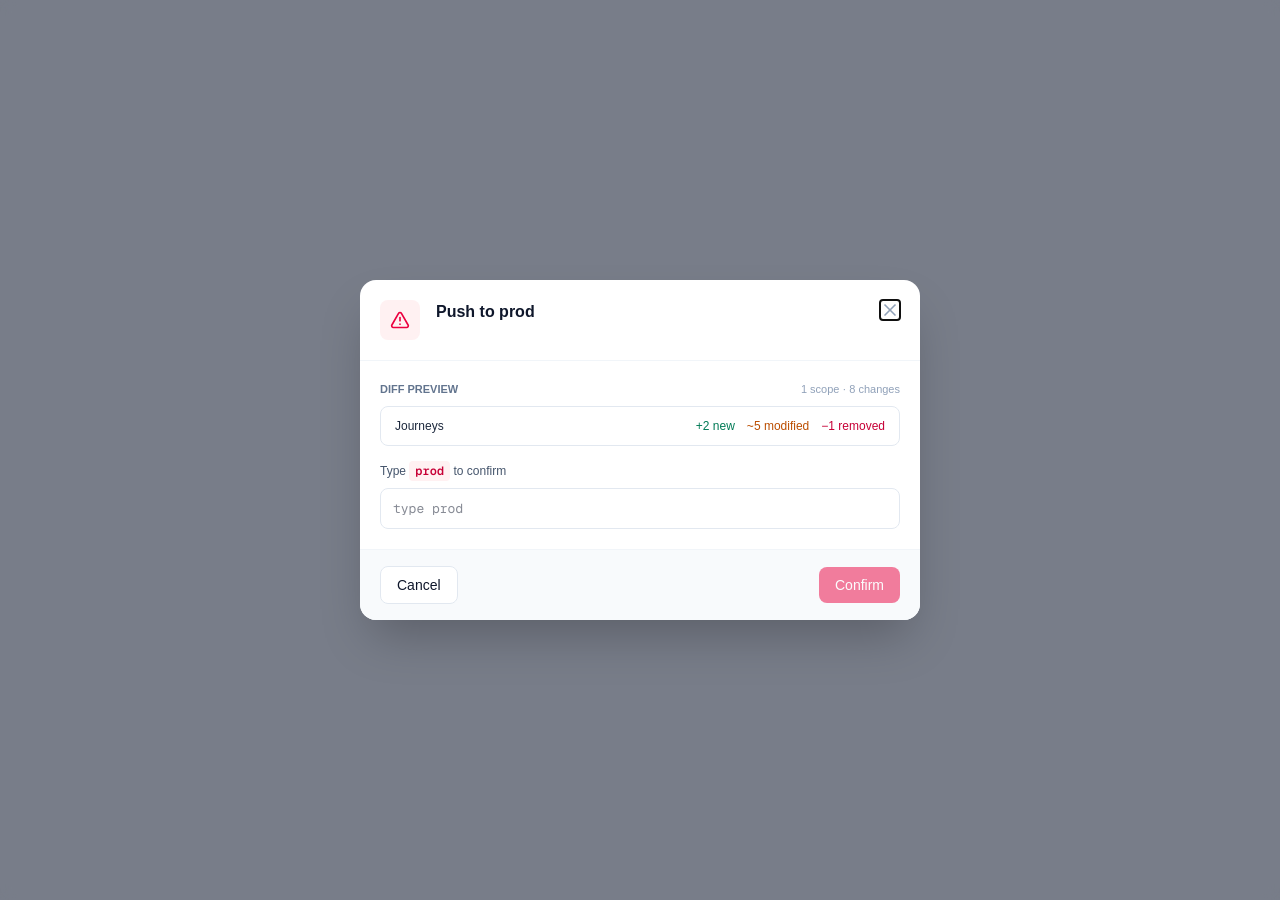
Test: DangerousConfirmDialog › blocks Confirm while diff is null when blockUntilDiffLoaded is true
Expected: the text "Journeys" is shown, [395, 418, 444, 432]
Expected: the button "Confirm" is disabled, [819, 567, 900, 603]
Type "prod" into the field with placeholder "type prod". click: (640, 508)
box: [380, 488, 900, 529]
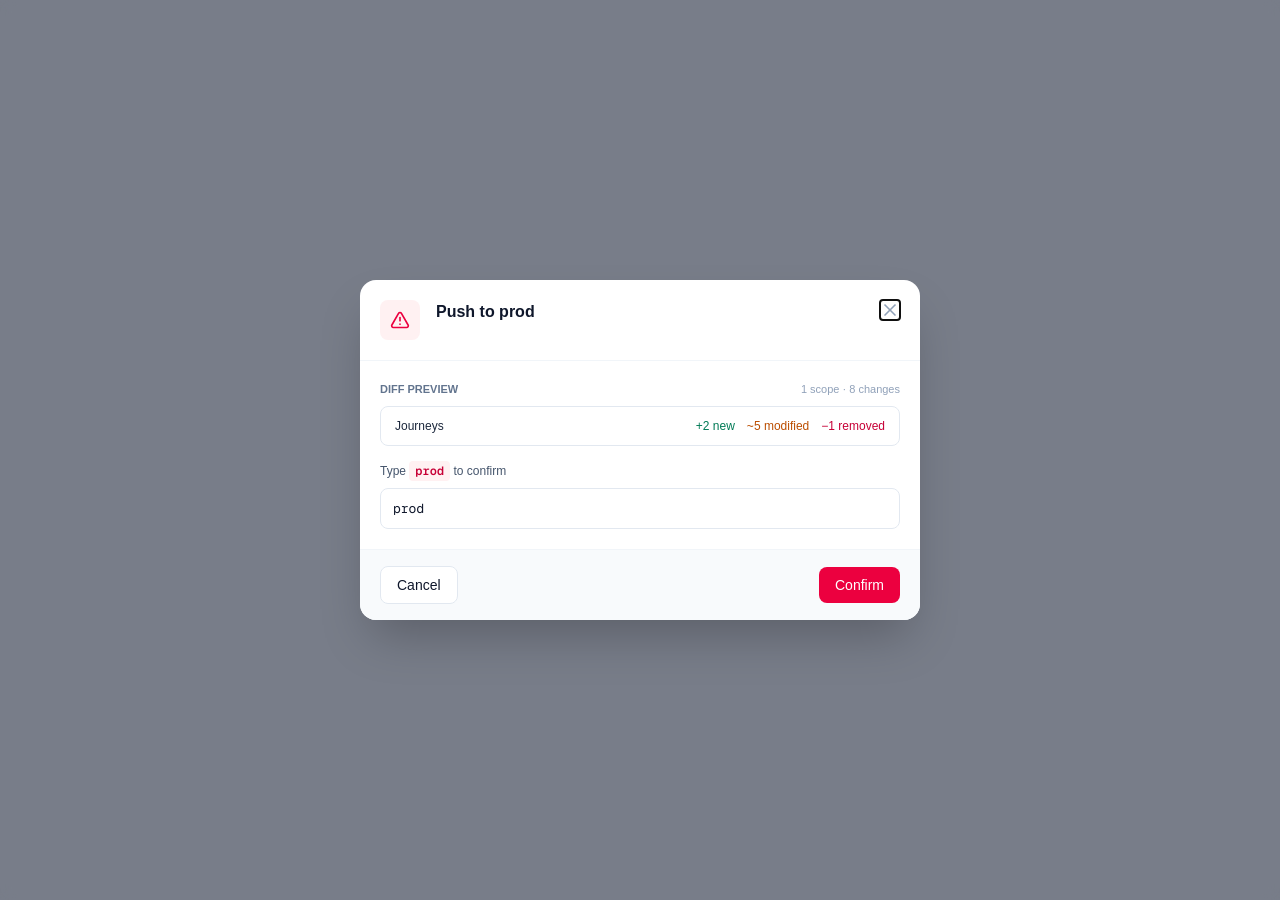
Expected: the button "Confirm" is enabled, [819, 567, 900, 603]
